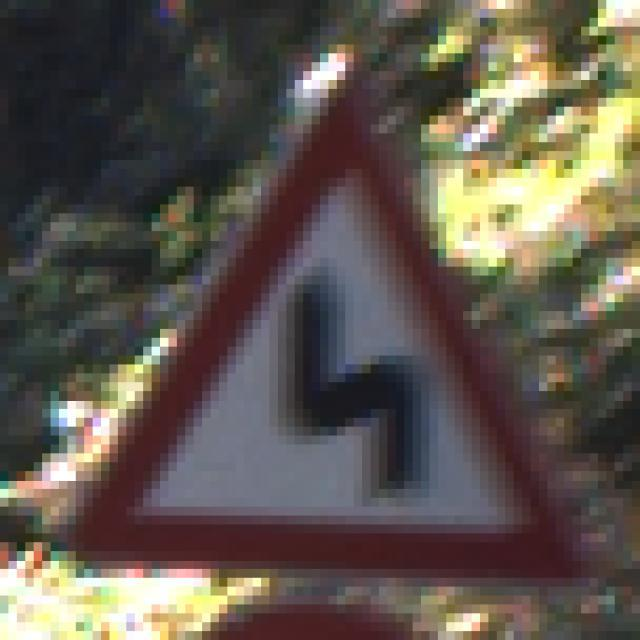left reverse bend: (68, 76, 595, 588)
